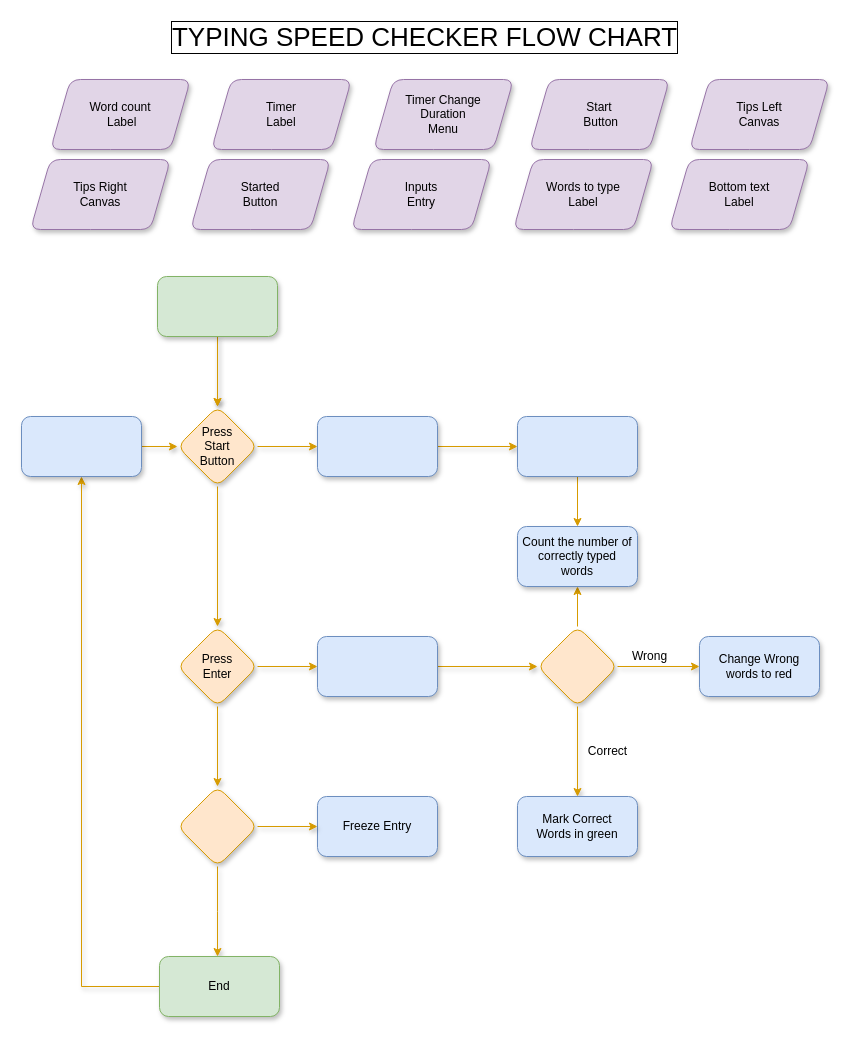
Some shapes in this 853 by 1041 pixel diagram are drawn without their labels. The shapes that lost their labels are listed below. From the top down, each one's centre as x and y in pixels, then its label:
At (218,308): "Start".
At (82,448): "Load new words from data".
At (378,448): "Start Timer".
At (578,448): "Change Button to Started".
At (378,668): "Move Focus to Next Entry".
At (578,668): "Check Last Entry Words".
At (218,828): "Timer Up".
